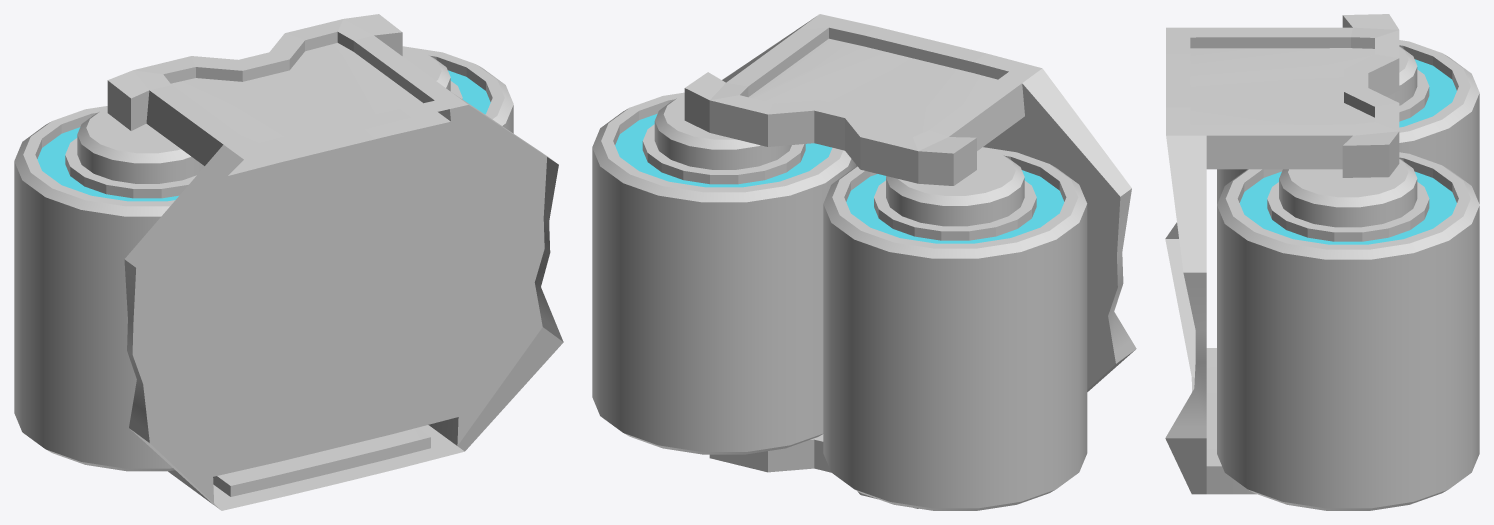
Rendered from Mod_BackPlate_Forge3.fbx.
3 views of the same model, side by side, from view 1: azimuth 30°, elevation 25°; view 2: azimuth 150°, elevation 25°; view 3: azimuth 270°, elevation 25° (orthographic).
Parts seen in each view (by area): view 1: Mod_BackPlate_Forge3; view 2: Mod_BackPlate_Forge3; view 3: Mod_BackPlate_Forge3.
Boxes of the visible parts, x1,y1,x2,y2 form: Mod_BackPlate_Forge3: [14, 14, 563, 510]; Mod_BackPlate_Forge3: [592, 14, 1136, 510]; Mod_BackPlate_Forge3: [1165, 14, 1479, 510].
Size of the model in its own units: 355 by 268 by 213.
